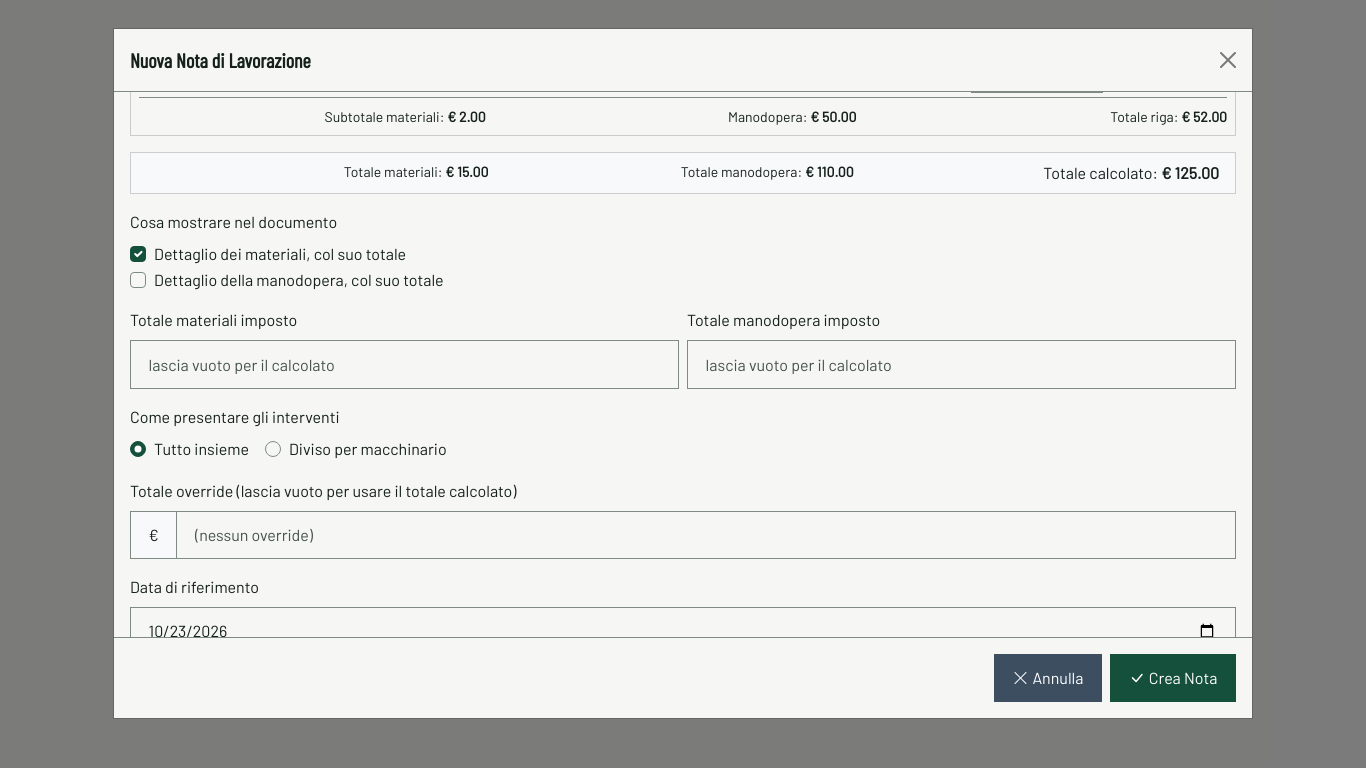
NotaLavorazioneFormModal — i dettagli seguono i totali imposti › il totale materiali imposto disabilita e spegne il suo dettaglio
This screenshot has width=1366, height=768.
(page scrolled)
In the number field with test id "override-materiali": {"x": 404, "y": 365} [130,340,679,389], type "300"
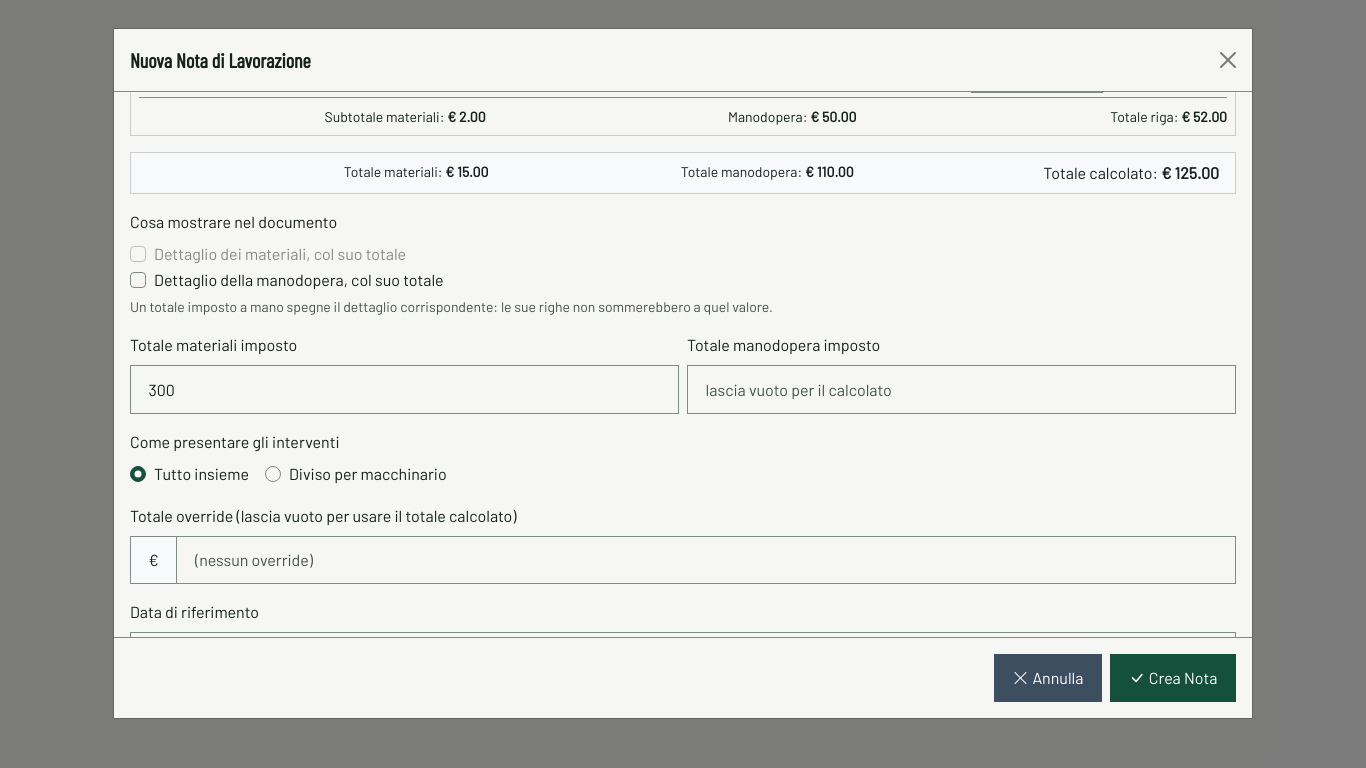
Expected: the checkbox with test id "dettaglio-manodopera" is enabled, [130,272,146,288]
Expected: the checkbox with test id "dettaglio-materiali" is disabled, [130,246,146,262]
